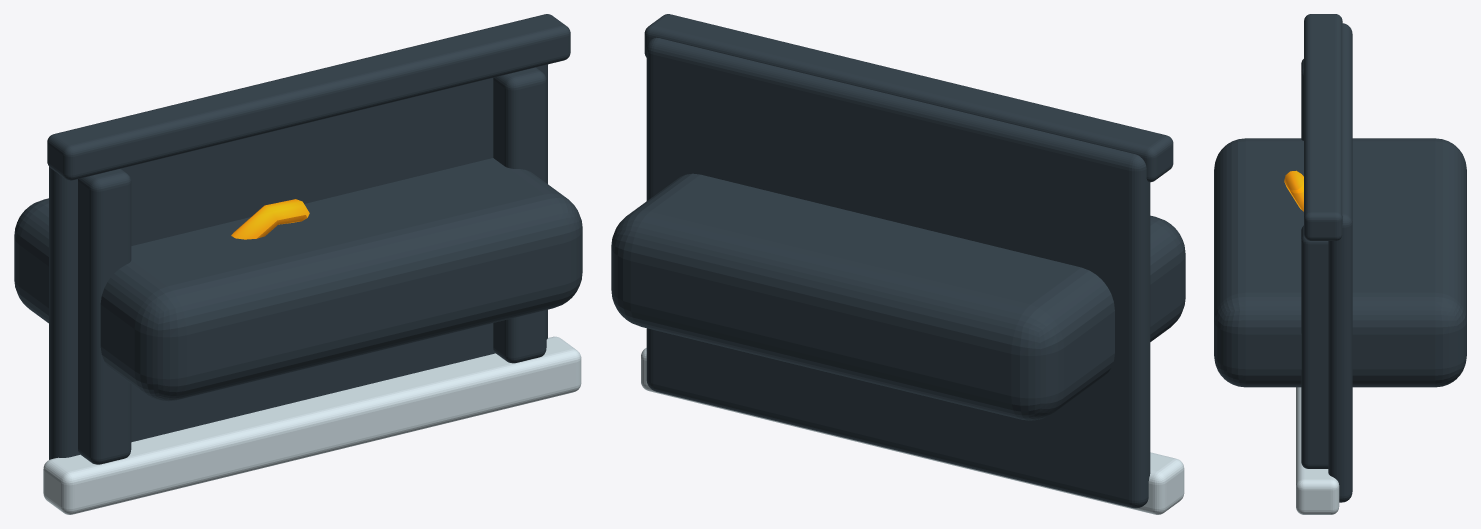
File: body_27.glb
The picture shows the model from 3 angles, left to right: view 1: azimuth 30°, elevation 25°; view 2: azimuth 150°, elevation 25°; view 3: azimuth 270°, elevation 25°; orthographic projection. The views are drawn at different scales.
Visible parts, largest first — view 1: asset_mesh__body_1268__reference_body, asset_mesh__body_1277__stamped_sheet, asset_mesh__body_1277__upper_flange, asset_mesh__body_1277__lower_flange, asset_mesh__body_1277__left_reinforcement, asset_mesh__body_1277__right_reinforcement, asset_mesh__body_1296__fluid_path; view 2: asset_mesh__body_1277__stamped_sheet, asset_mesh__body_1268__reference_body, asset_mesh__body_1277__lower_flange, asset_mesh__body_1277__upper_flange; view 3: asset_mesh__body_1268__reference_body, asset_mesh__body_1277__lower_flange, asset_mesh__body_1277__stamped_sheet, asset_mesh__body_1277__right_reinforcement, asset_mesh__body_1277__upper_flange, asset_mesh__body_1296__fluid_path.
Part boxes in pixels (box(x1,y1,x2,y2)): asset_mesh__body_1268__reference_body: box(14, 158, 582, 401); asset_mesh__body_1277__stamped_sheet: box(49, 64, 547, 459); asset_mesh__body_1277__upper_flange: box(43, 336, 581, 514); asset_mesh__body_1277__lower_flange: box(47, 14, 570, 180); asset_mesh__body_1277__left_reinforcement: box(78, 168, 131, 464); asset_mesh__body_1277__right_reinforcement: box(493, 67, 546, 363); asset_mesh__body_1296__fluid_path: box(231, 199, 309, 239); asset_mesh__body_1277__stamped_sheet: box(646, 37, 1150, 508); asset_mesh__body_1268__reference_body: box(611, 173, 1185, 420); asset_mesh__body_1277__lower_flange: box(644, 14, 1173, 182); asset_mesh__body_1277__upper_flange: box(641, 348, 1184, 514); asset_mesh__body_1268__reference_body: box(1214, 138, 1466, 387); asset_mesh__body_1277__lower_flange: box(1304, 14, 1342, 240); asset_mesh__body_1277__stamped_sheet: box(1328, 23, 1352, 502); asset_mesh__body_1277__right_reinforcement: box(1301, 225, 1328, 468); asset_mesh__body_1277__upper_flange: box(1296, 387, 1339, 514); asset_mesh__body_1296__fluid_path: box(1284, 170, 1303, 211).
Bounding box in the file's own units: 1.72 × 1.15 × 0.882.
